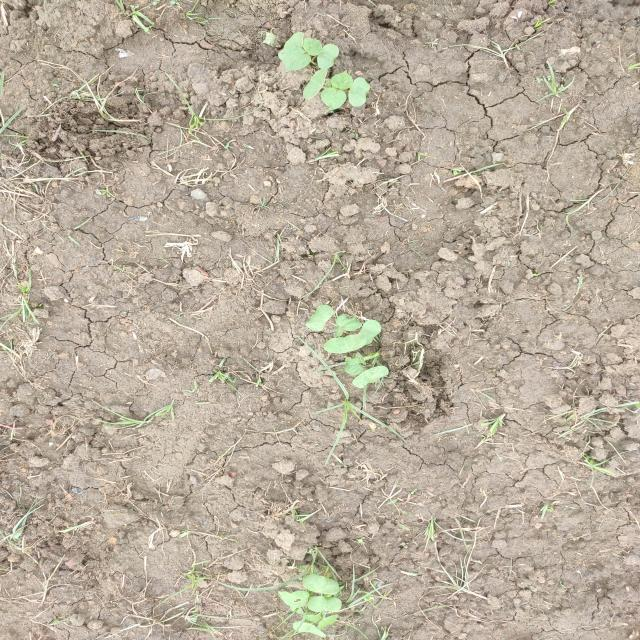seedling_s4: (323, 334, 366, 354), (352, 366, 389, 388), (277, 32, 304, 61), (305, 305, 333, 332), (302, 69, 327, 99), (302, 574, 339, 594), (283, 47, 311, 73), (348, 77, 370, 107), (358, 319, 381, 345), (321, 88, 347, 110), (293, 621, 326, 638), (307, 596, 342, 612), (317, 44, 339, 69), (277, 590, 309, 607), (344, 353, 366, 376), (330, 70, 353, 90), (336, 315, 363, 330), (318, 614, 339, 631), (303, 38, 322, 56), (301, 615, 322, 623)
